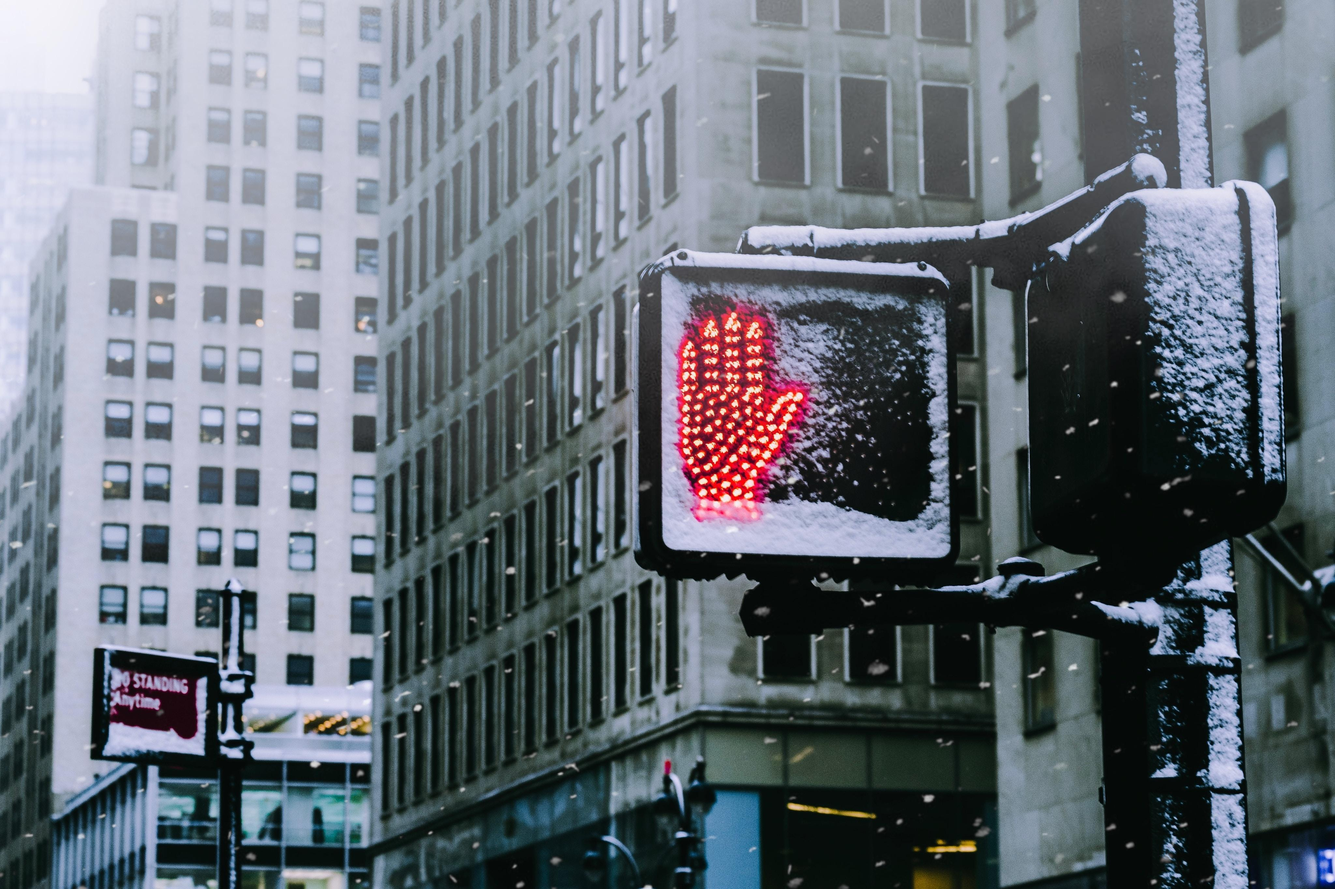red: (616, 234, 1001, 599)
